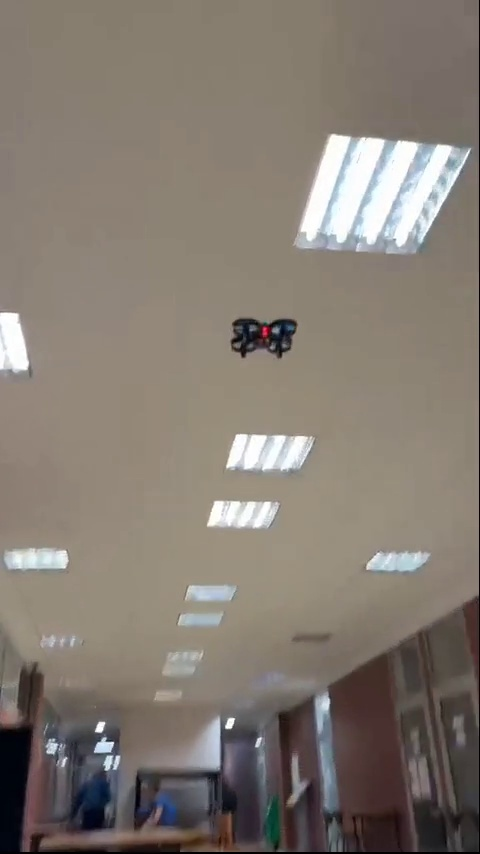drone: (233, 321, 297, 360)
